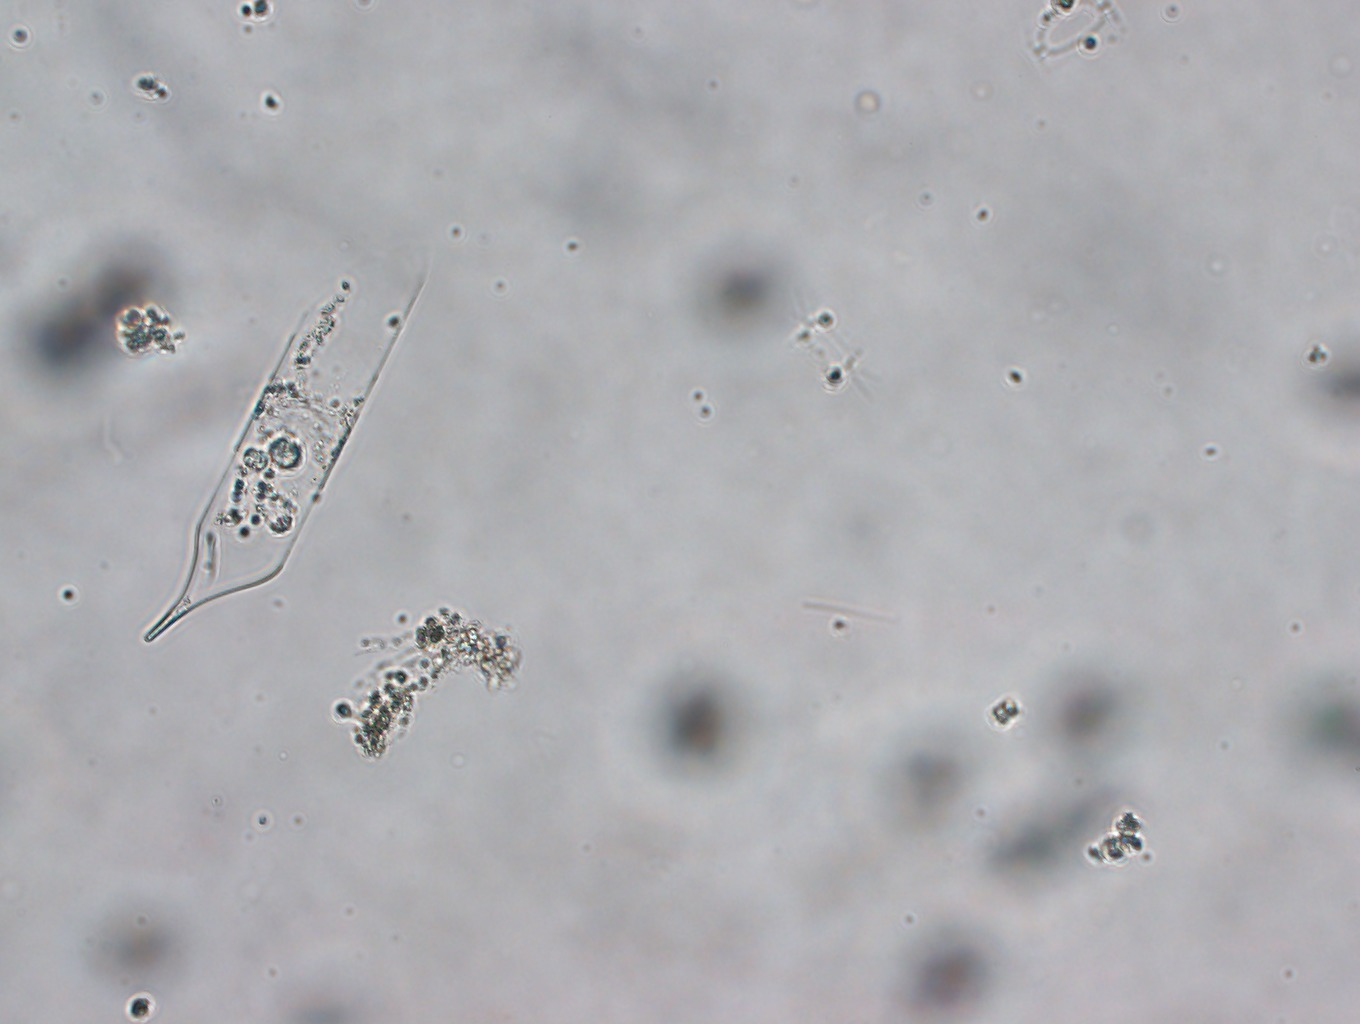biddulphia: (143, 262, 427, 643)
